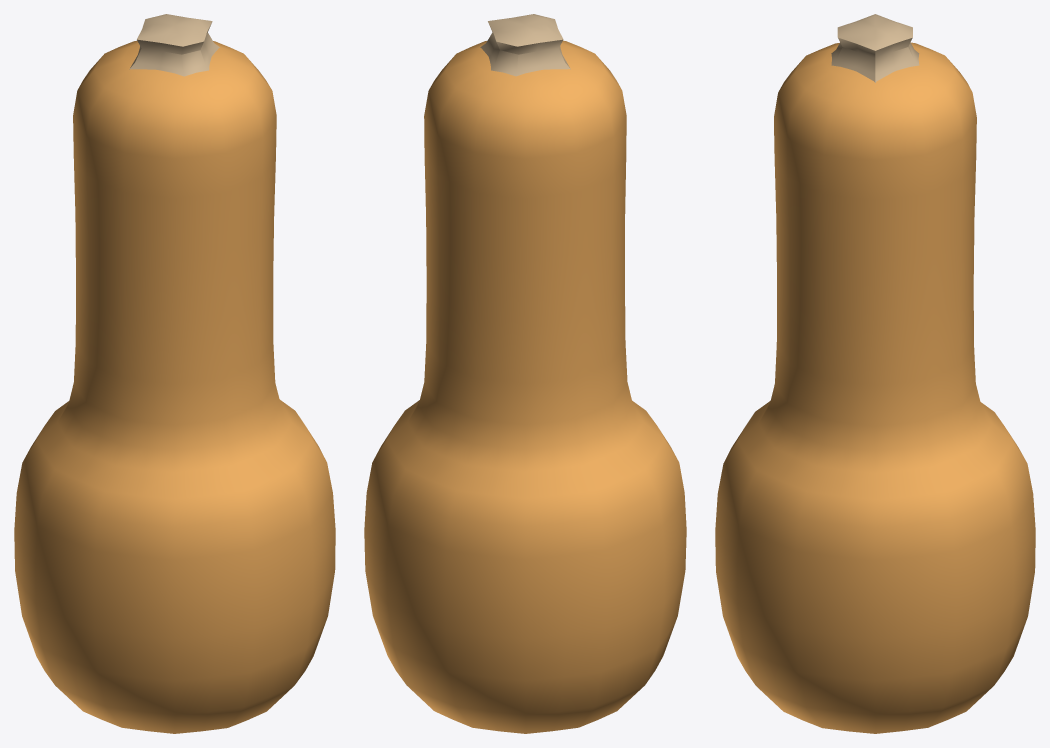
The model's file is fresh-produce-and-groceries-butternut-squash-cbe665cd__24387.glb.
3 views of the same model, side by side, from view 1: azimuth 30°, elevation 25°; view 2: azimuth 150°, elevation 25°; view 3: azimuth 270°, elevation 25° (orthographic).
Visible parts, largest first — view 1: butternut-squash; view 2: butternut-squash; view 3: butternut-squash.
Part boxes in pixels (x1=…): butternut-squash: x1=14, y1=14, x2=335, y2=733; butternut-squash: x1=364, y1=14, x2=686, y2=733; butternut-squash: x1=715, y1=14, x2=1035, y2=733.
Size of the model in its own units: 0.1161 by 0.272 by 0.1159.
